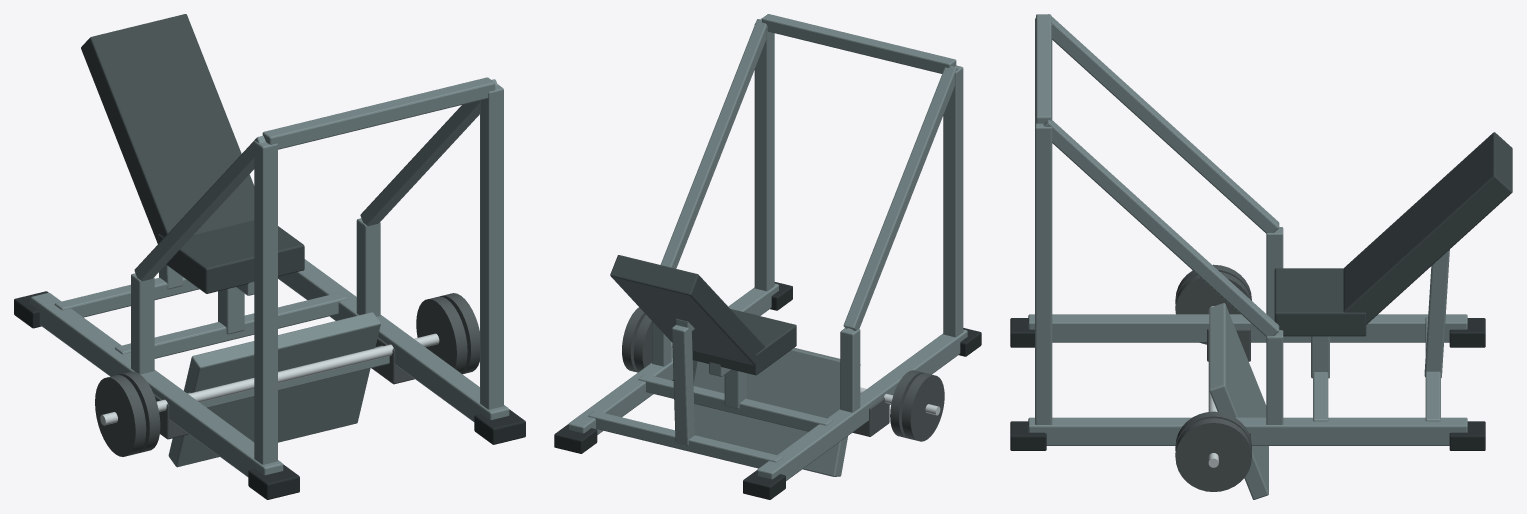
Rendered from leg-press.v2.glb.
The picture shows the model from 3 angles, left to right: view 1: azimuth 30°, elevation 25°; view 2: azimuth 150°, elevation 25°; view 3: azimuth 270°, elevation 25°; orthographic projection. The views are drawn at different scales.
Visible parts, largest first — view 1: Backrest spine, Inclined back support, Foot sled, Sled carriage, Floor shoe, Plate axle; view 2: Backrest spine, Inclined back support, Foot sled, Sled carriage, Floor shoe; view 3: Backrest spine, Inclined back support, Sled carriage, Foot sled, Floor shoe.
Boxes of the visible parts, x1,y1,x2,y2 form: Backrest spine: [30, 77, 509, 476]; Inclined back support: [81, 14, 304, 293]; Foot sled: [168, 312, 389, 467]; Sled carriage: [95, 293, 479, 456]; Floor shoe: [14, 291, 525, 499]; Plate axle: [100, 333, 439, 425]; Backrest spine: [568, 14, 967, 480]; Inclined back support: [610, 255, 796, 375]; Foot sled: [692, 347, 860, 476]; Sled carriage: [622, 307, 944, 441]; Floor shoe: [554, 282, 981, 499]; Backrest spine: [1028, 14, 1467, 445]; Inclined back support: [1274, 132, 1512, 336]; Sled carriage: [1175, 264, 1251, 491]; Foot sled: [1209, 303, 1268, 499]; Floor shoe: [1010, 318, 1485, 450].
Bounding box in the file's own units: 2.1 × 2.28 × 2.63.
